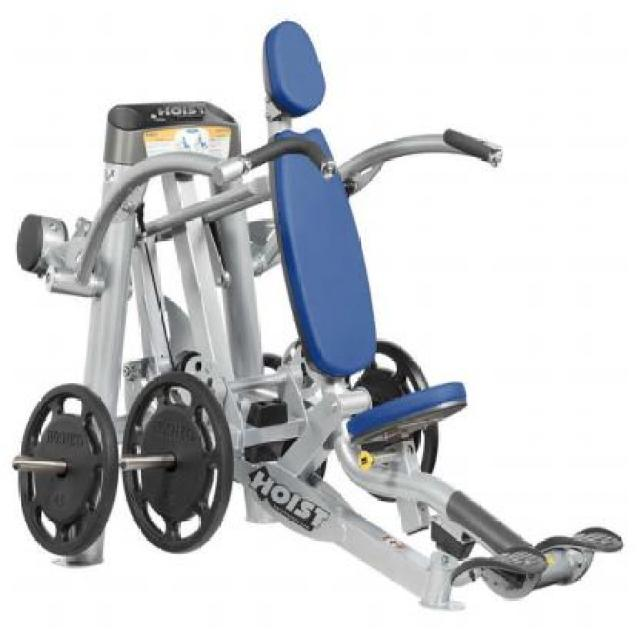shoulder press machine: (19, 20, 623, 614)
